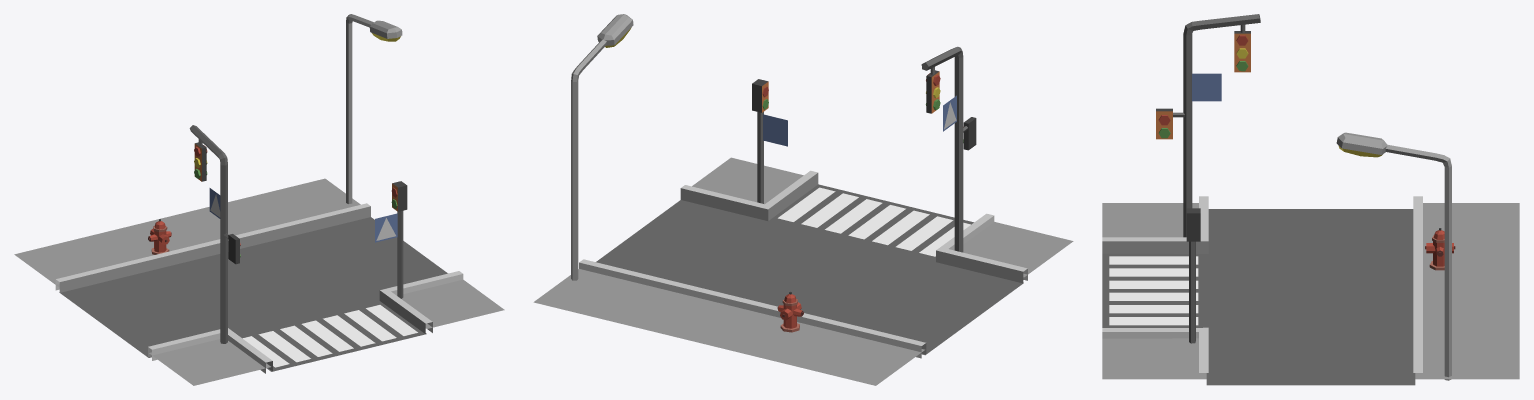
The model's file is street-three.glb.
The picture shows the model from 3 angles, left to right: view 1: azimuth 30°, elevation 25°; view 2: azimuth 150°, elevation 25°; view 3: azimuth 270°, elevation 25°; orthographic projection. The views are drawn at different scales.
Visible parts, largest first — view 1: road_tile_1x1_10; view 2: road_tile_1x1_10; view 3: road_tile_1x1_10.
Part boxes in pixels (x1,y1,x2,y2): road_tile_1x1_10: (14, 14, 504, 385); road_tile_1x1_10: (533, 14, 1073, 385); road_tile_1x1_10: (1102, 14, 1519, 385).
Size of the model in its own units: 8.02 by 5.25 by 8.
Materials: 1 (1 with a texture image).
